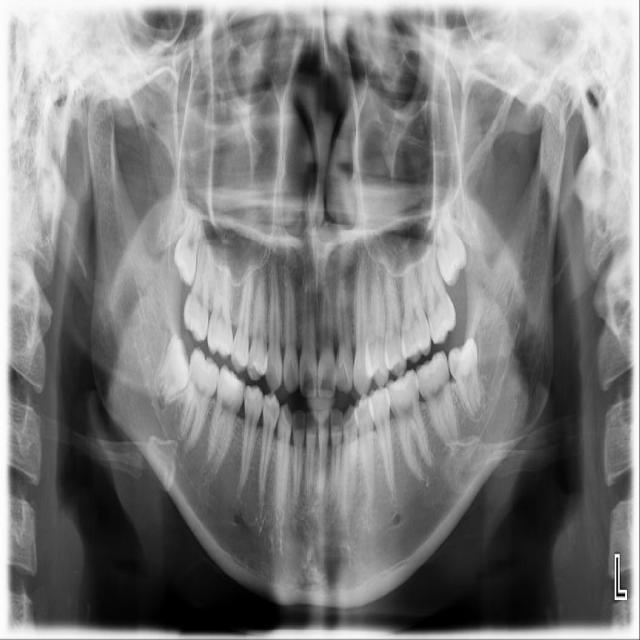Periapical lesion: (157, 395, 165, 410)
impacted tooth: (448, 341, 487, 423), (429, 199, 466, 284), (175, 201, 202, 286), (156, 334, 189, 403)
